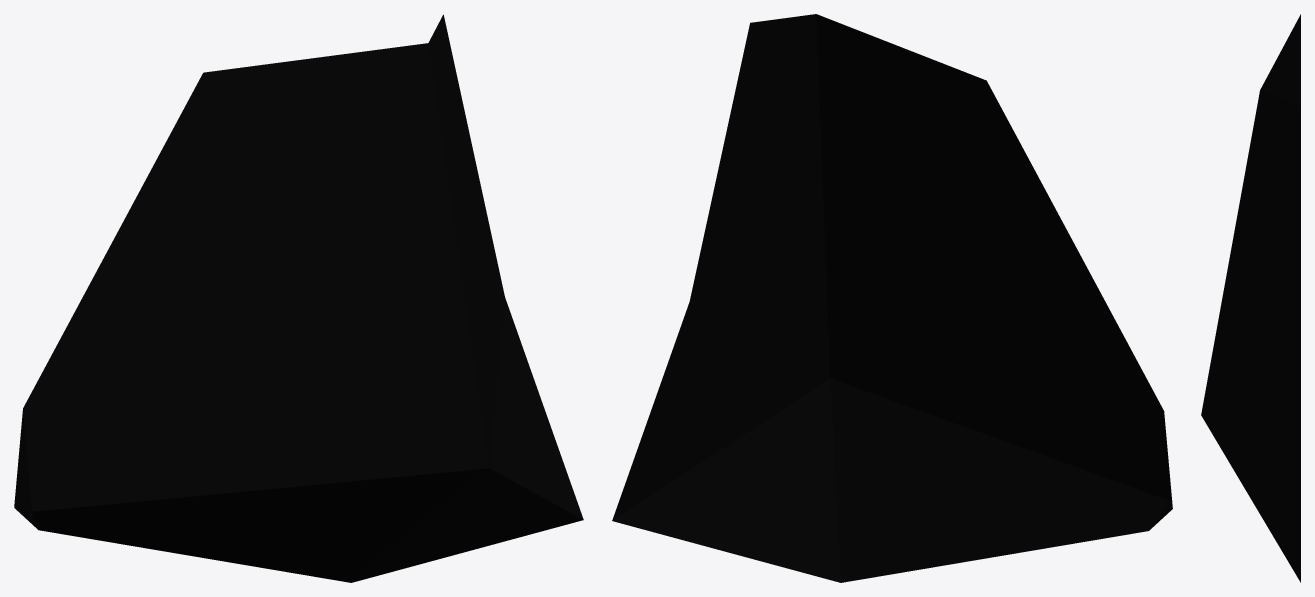
The picture shows the model from 3 angles, left to right: view 1: azimuth 30°, elevation 25°; view 2: azimuth 150°, elevation 25°; view 3: azimuth 270°, elevation 25°; orthographic projection. The views are drawn at different scales.
Size of the model in its own units: 0.2279 by 0.2089 by 0.0441.
1 material, 1 textured.
